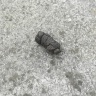Dog: (35, 31, 63, 54)
